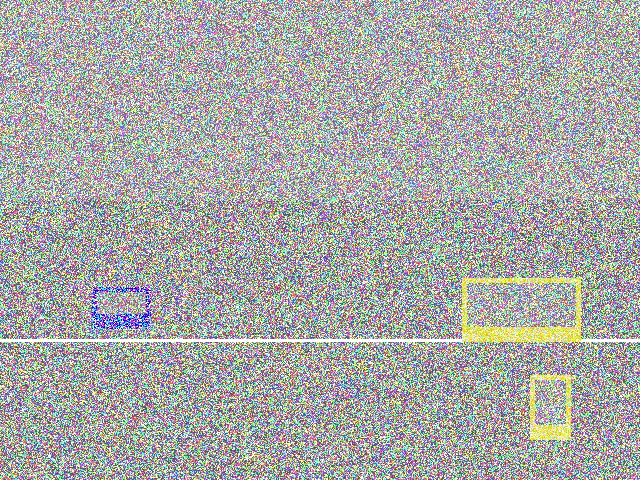bus: (339, 297, 424, 351)
car: (247, 219, 380, 319), (387, 297, 557, 356)
